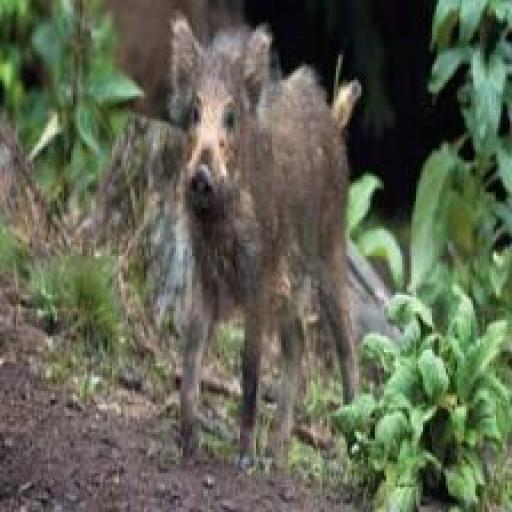Pig: (172, 14, 361, 457)
